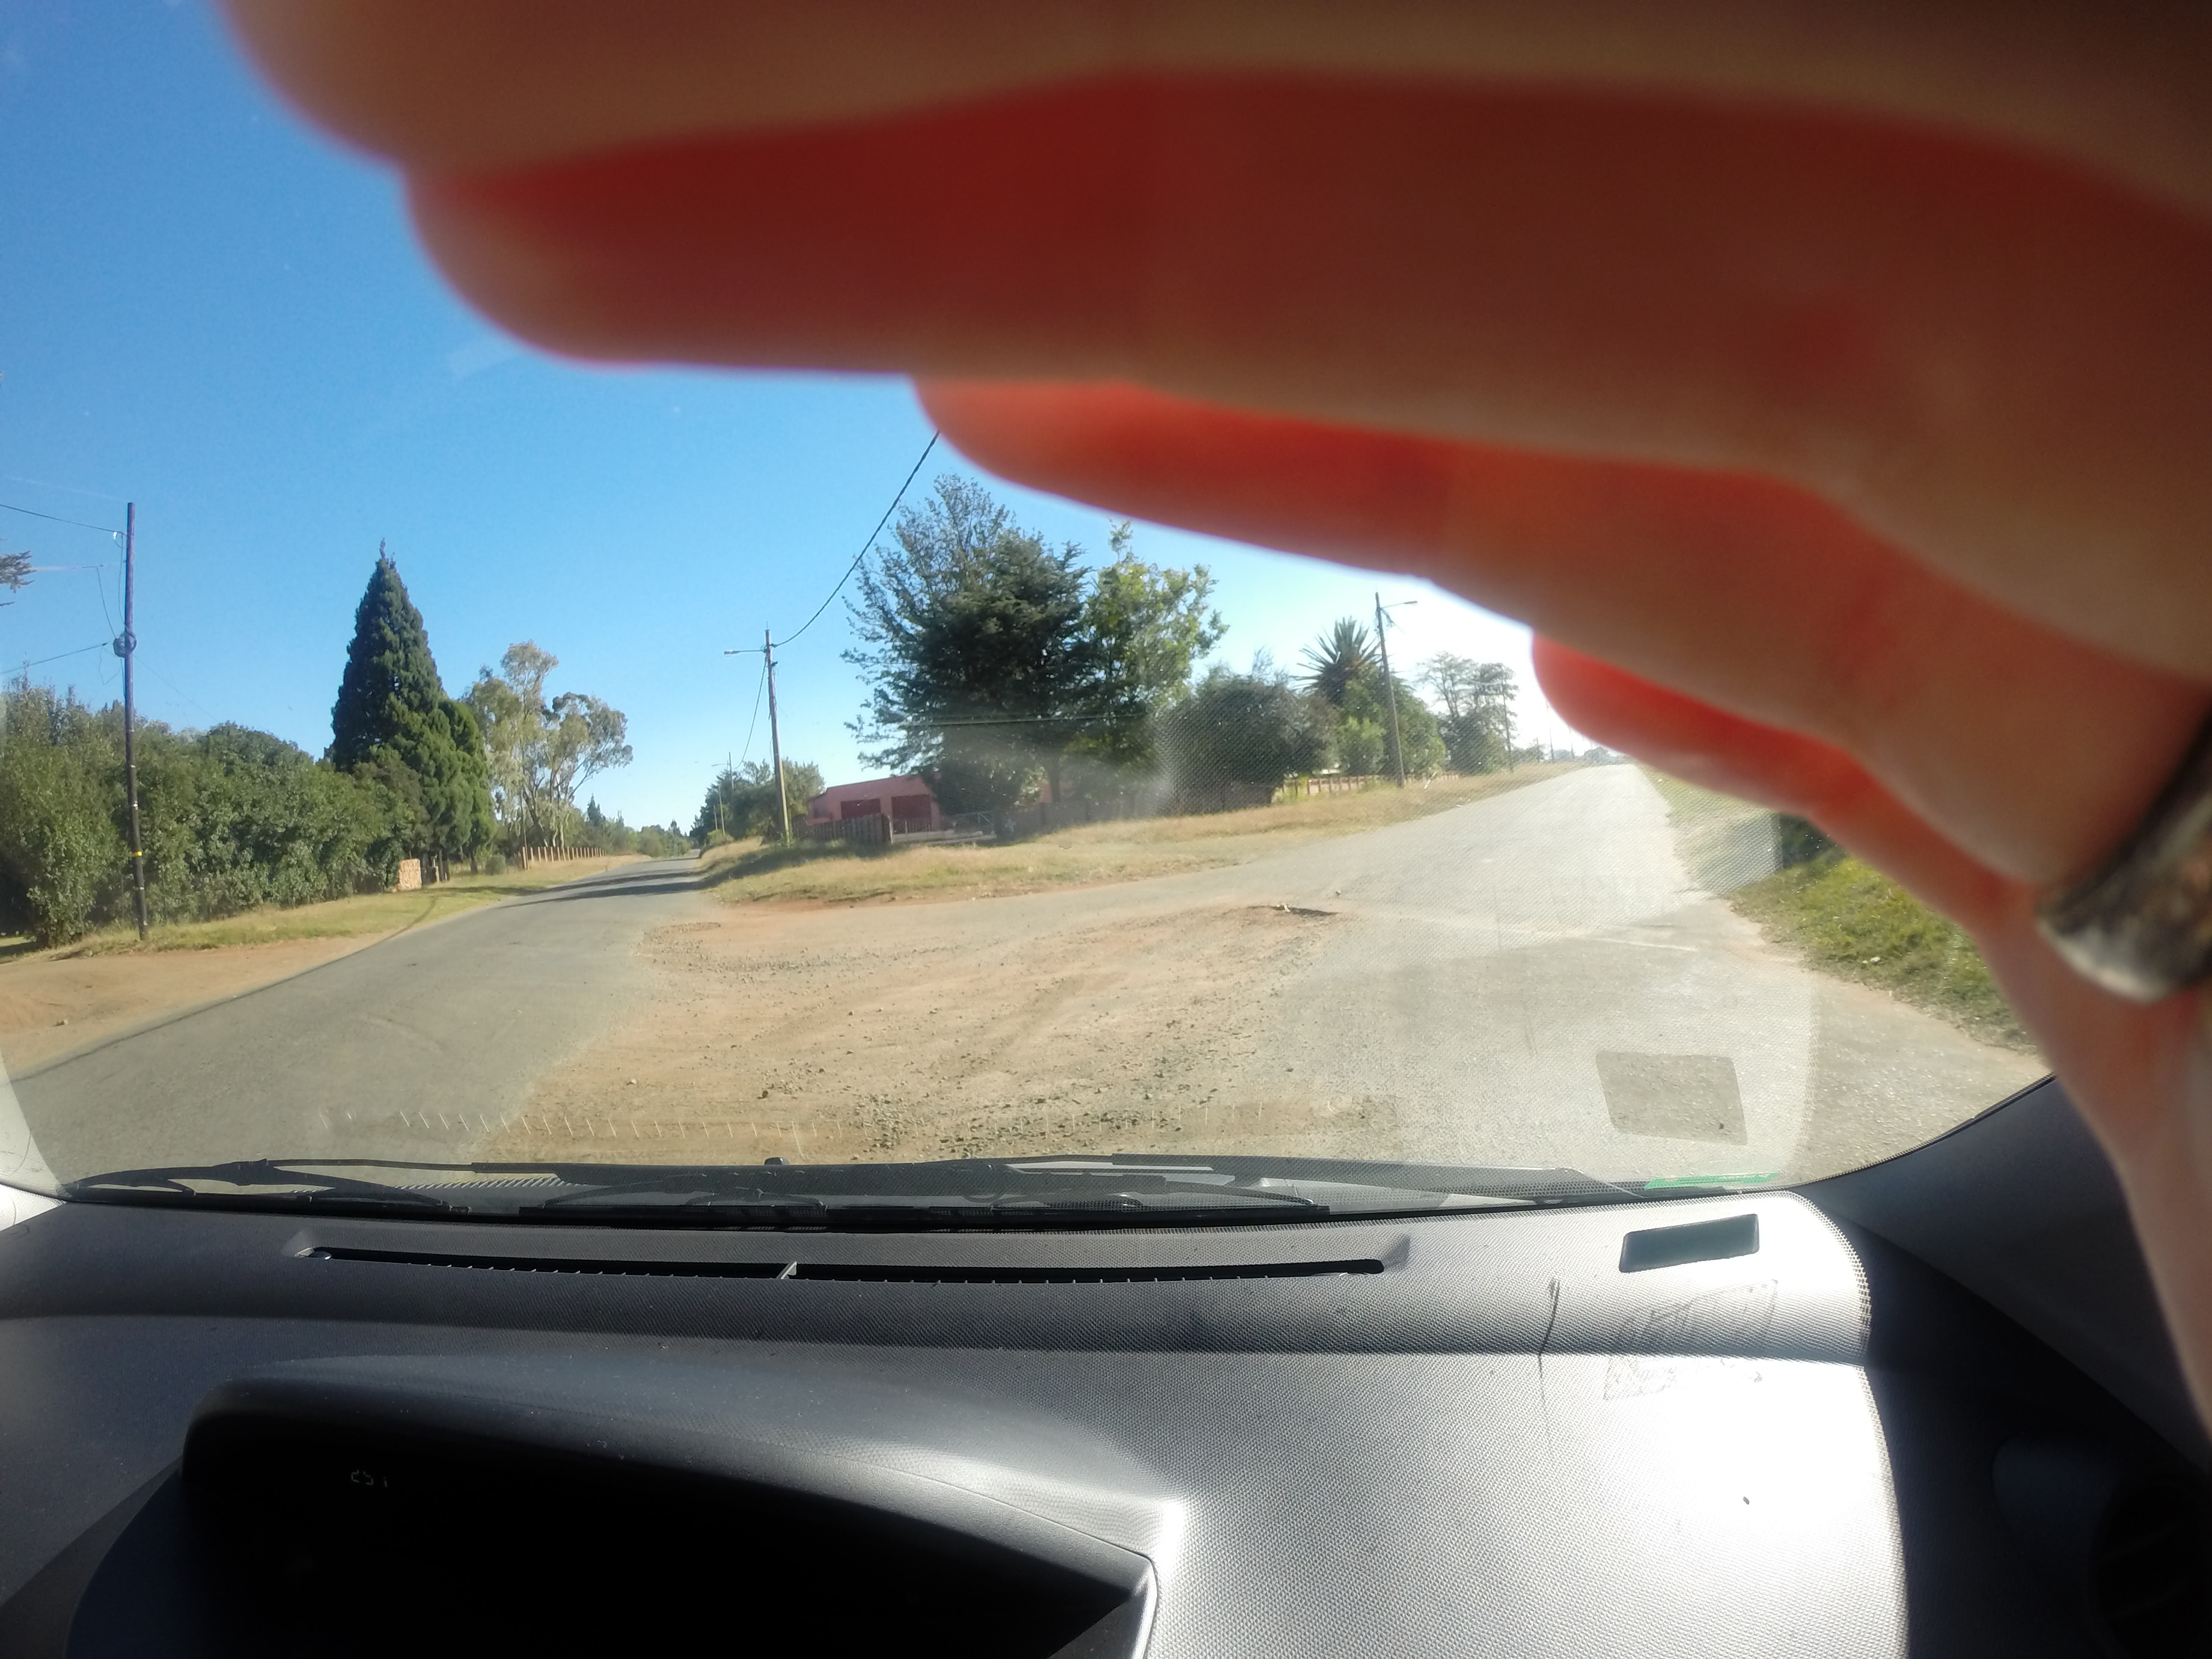pothole: (1139, 845, 1418, 1018)
